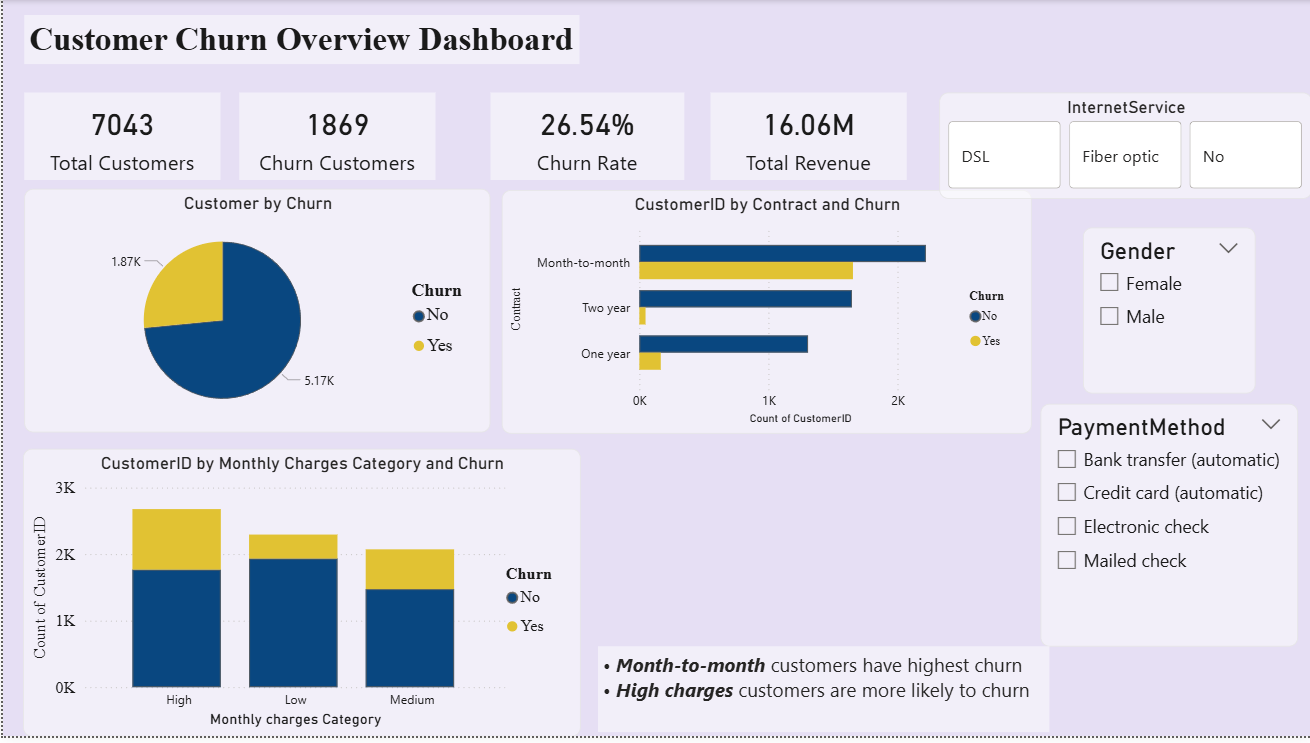

The page's visual inventory and layout, read from the dashboard file:
{"tool":"powerbi","page":{"name":"Customer Churn Overview","canvas":[1280,720],"ordinal":0},"visuals":[{"type":"textbox","box":[20.8,14.7,542.9,47.7],"z":0},{"type":"card","fields":{"Values":["Telco_customer_churn.Total Customers"]},"box":[20.8,90.5,192,85.6],"z":1000},{"type":"card","fields":{"Values":["Telco_customer_churn.Churn Customers"]},"box":[231.1,90.5,192,85.6],"z":2000},{"type":"card","fields":{"Values":["Telco_customer_churn.Churn Rate"]},"box":[476.9,90.5,189.5,85.6],"z":3000},{"type":"card","fields":{"Values":["Telco_customer_churn.Total Revenue1"]},"box":[692.1,90.5,192,85.6],"z":4000},{"type":"pieChart","title":"Customer by Churn","fields":{"Category":["Telco_customer_churn.Churn"],"Y":["CountNonNull(Telco_customer_churn.CustomerID)"]},"box":[20.8,184.6,456.1,238.5],"z":5000},{"type":"clusteredBarChart","title":"CustomerID by Contract and Churn","fields":{"Category":["Telco_customer_churn.Contract"],"Series":["Telco_customer_churn.Churn"],"Y":["CountNonNull(Telco_customer_churn.CustomerID)"]},"box":[487.9,185.9,518.5,238.5],"z":6000},{"type":"columnChart","title":"CustomerID by Monthly Charges Category and Churn","fields":{"Category":["Telco_customer_churn.Monthly charges Category"],"Y":["CountNonNull(Telco_customer_churn.CustomerID)"],"Series":["Telco_customer_churn.Churn"]},"box":[19.6,439,545.4,281.3],"z":7000},{"type":"slicer","fields":{"Values":["Telco_customer_churn.Gender"]},"box":[1056.5,222.6,168.8,162.6],"z":8000},{"type":"advancedSlicerVisual","fields":{"Values":["Telco_customer_churn.InternetService"]},"box":[915.9,90.5,364.4,103.9],"z":9000},{"type":"slicer","fields":{"Values":["Telco_customer_churn.PaymentMethod"]},"box":[1015,395,251.9,237.2],"z":10000},{"type":"textbox","box":[582.1,632.2,441.4,84.4],"z":11000}]}

Visuals, with their boxes in screenshot pixels (x1, y1, x2, y2), scaled from the page's 1280x720 canvas onto the 1310x743 screenshot:
textbox: <region>21, 15, 577, 64</region>
card - Telco_customer_churn.Total Customers: <region>21, 93, 218, 182</region>
card - Telco_customer_churn.Churn Customers: <region>237, 93, 433, 182</region>
card - Telco_customer_churn.Churn Rate: <region>488, 93, 682, 182</region>
card - Telco_customer_churn.Total Revenue1: <region>708, 93, 905, 182</region>
"Customer by Churn" pieChart: <region>21, 190, 488, 437</region>
"CustomerID by Contract and Churn" clusteredBarChart: <region>499, 192, 1030, 438</region>
"CustomerID by Monthly Charges Category and Churn" columnChart: <region>20, 453, 578, 742</region>
slicer - Telco_customer_churn.Gender: <region>1081, 230, 1254, 398</region>
advancedSlicerVisual - Telco_customer_churn.InternetService: <region>937, 93, 1309, 201</region>
slicer - Telco_customer_churn.PaymentMethod: <region>1039, 408, 1297, 652</region>
textbox: <region>596, 652, 1047, 739</region>
